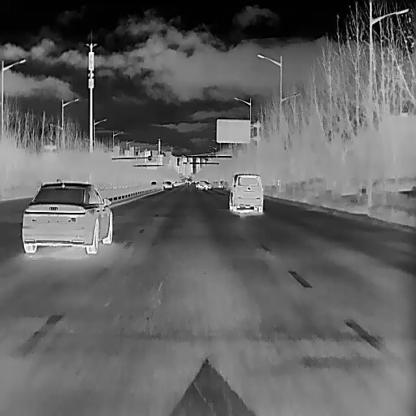car: (21, 180, 112, 252), (228, 173, 262, 214), (195, 180, 211, 190), (162, 179, 171, 187), (150, 180, 155, 184)
